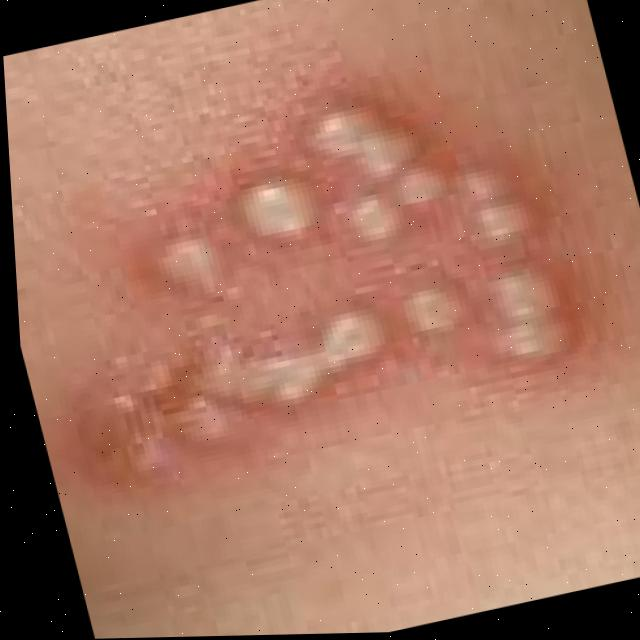Shingles: (45, 71, 613, 485)
